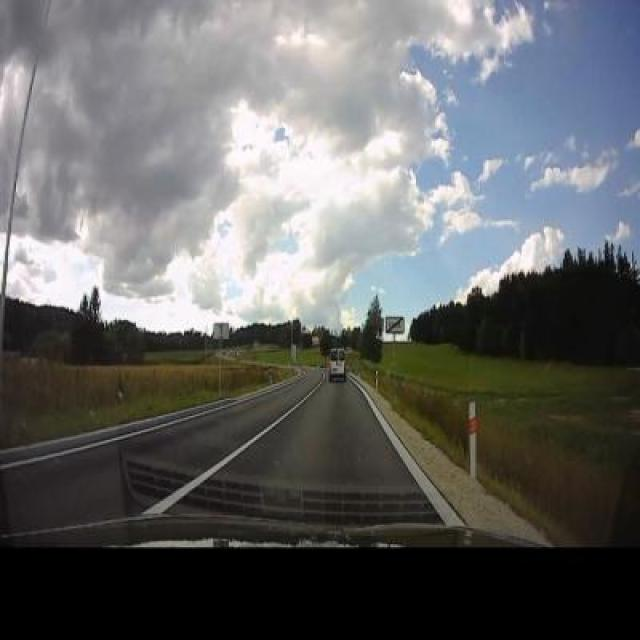clear-road: (213, 378, 416, 487), (122, 371, 320, 474)
